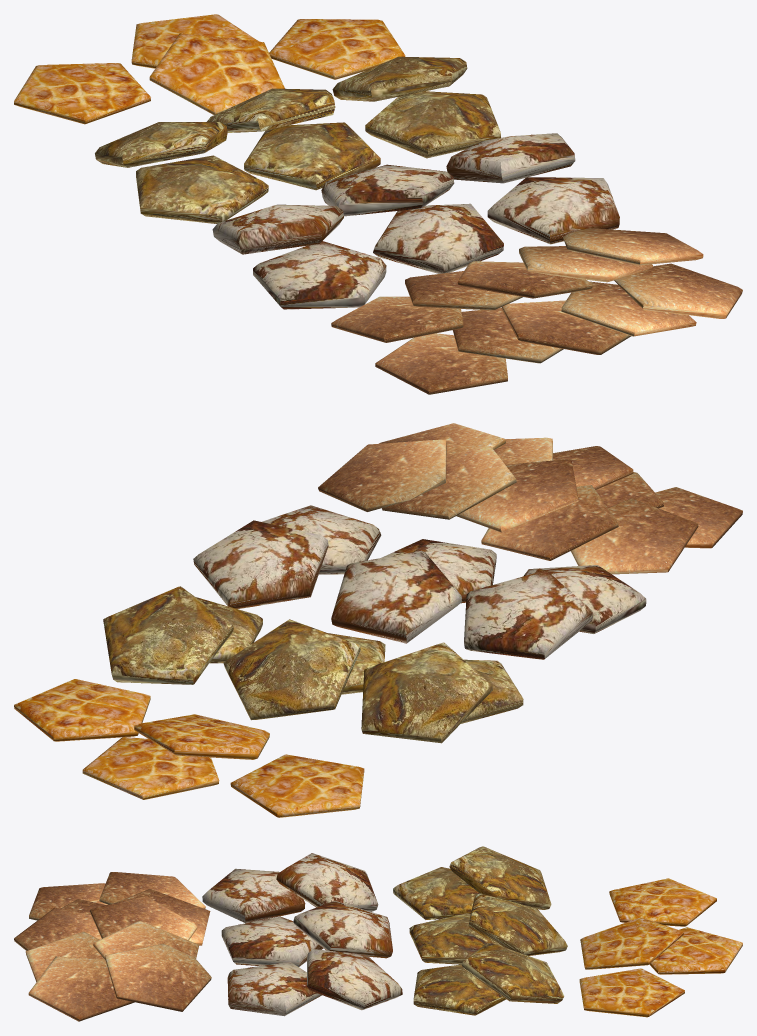
The model's file is bread_booth02_LOD03.fbx.
3 renders of one model, top to bottom at view 1: azimuth 30°, elevation 25°; view 2: azimuth 150°, elevation 25°; view 3: azimuth 270°, elevation 25°, orthographic. The views are drawn at different scales.
Parts seen in each view (by area): view 1: Mesh Object; view 2: Mesh Object; view 3: Mesh Object.
Part boxes in pixels (x1,y1,x2,y2): Mesh Object: (14, 14, 742, 394); Mesh Object: (14, 423, 742, 817); Mesh Object: (14, 846, 742, 1021).
Size of the model in its own units: 0.8664 by 0.1345 by 1.84.
